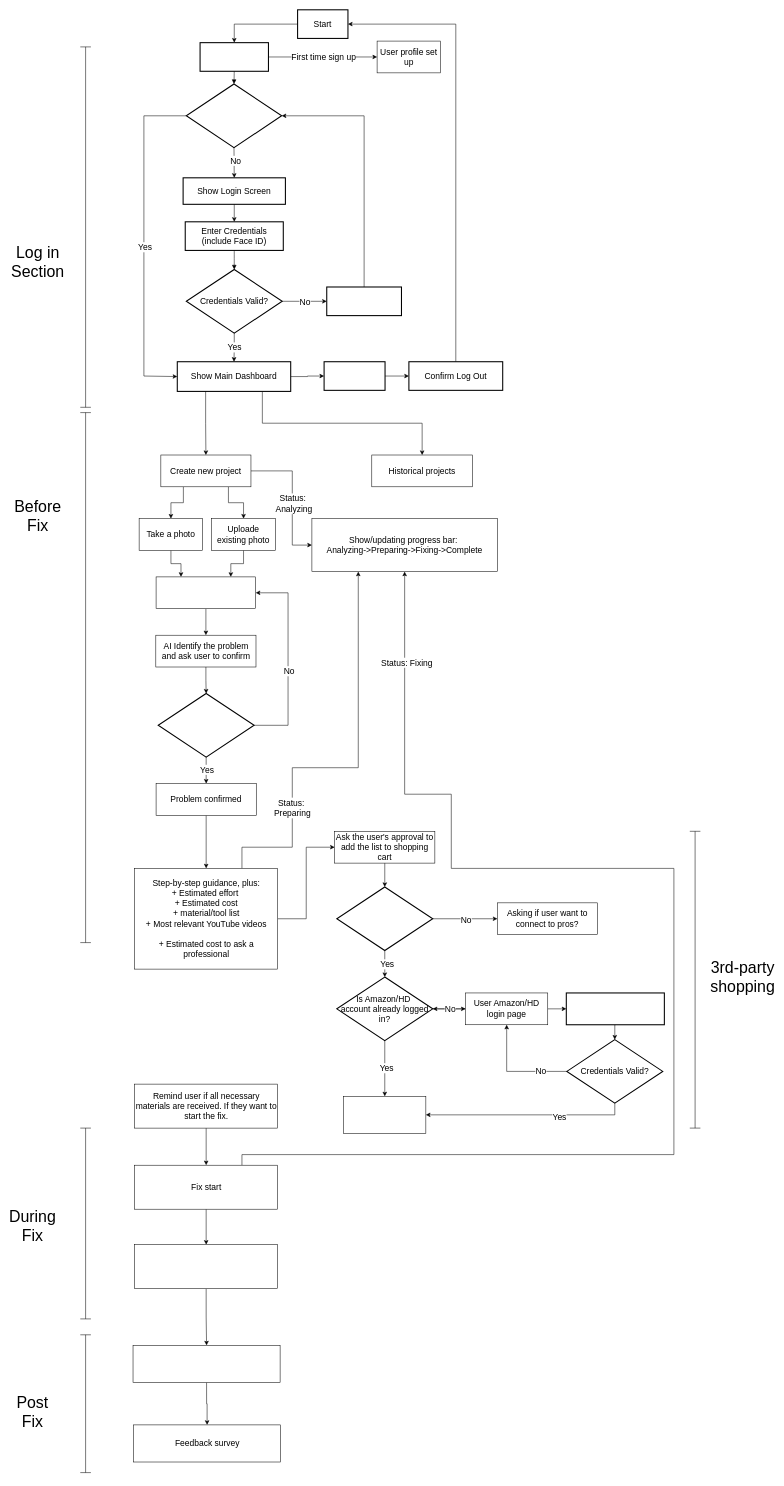
This 784x1486 diagram has some shape labels left out. The box of each missing label's shape, as (x1, y1, x2, y2) in pixels:
Add optional prompts (Problem description): (156, 576, 256, 609)
Enter Credentials: (566, 992, 665, 1025)
Is User Logged In?: (186, 83, 282, 148)
Log Out: (323, 361, 385, 391)
Mark completion: (132, 1345, 280, 1383)
Open App: (199, 42, 269, 72)
Redirect to user's Amazon/HD shopping cart: (343, 1096, 426, 1133)
Show Error Message: (326, 286, 402, 316)
User Approval?: (336, 886, 433, 951)
User confirm?: (157, 693, 254, 757)
Virtual chatbot for assistance during fix: (134, 1244, 278, 1289)
